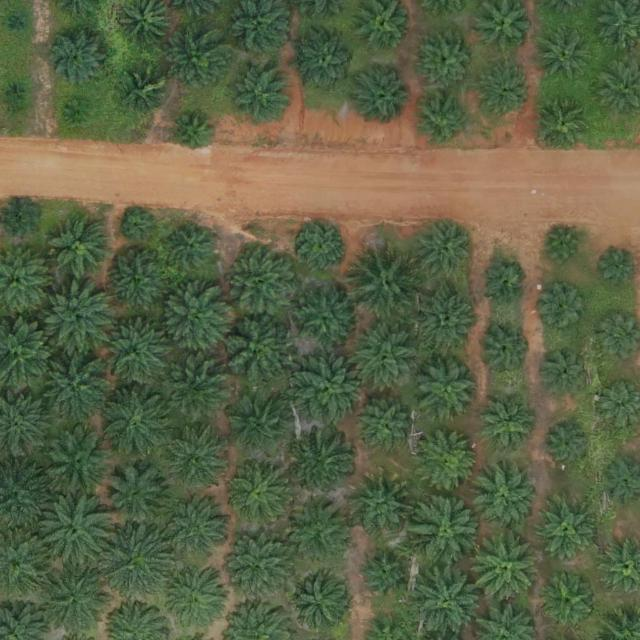Kelapa_Sawit: (32, 344, 110, 422), (38, 489, 116, 567), (95, 315, 173, 393), (98, 383, 176, 461), (95, 524, 173, 602), (223, 241, 301, 319), (215, 311, 293, 389), (218, 527, 296, 605), (290, 351, 368, 429), (347, 242, 425, 320), (345, 319, 423, 397), (408, 491, 486, 569), (466, 529, 544, 607), (36, 560, 114, 638), (41, 22, 111, 92), (41, 282, 111, 352), (42, 427, 112, 497), (101, 462, 171, 532), (159, 284, 229, 354), (160, 354, 230, 424), (163, 495, 233, 565), (155, 563, 225, 633), (407, 569, 477, 632), (167, 28, 229, 91), (229, 63, 291, 126), (48, 216, 110, 279), (104, 249, 166, 312), (228, 396, 290, 459), (229, 459, 291, 522), (295, 431, 357, 494), (288, 496, 350, 559), (352, 473, 414, 536), (285, 569, 347, 632), (295, 30, 357, 92), (352, 62, 414, 124), (416, 29, 478, 91), (294, 286, 356, 348), (413, 219, 475, 281), (415, 291, 477, 353), (415, 358, 477, 420), (417, 431, 479, 493), (474, 466, 536, 528), (532, 498, 594, 560), (0, 315, 48, 385), (229, 0, 290, 52), (0, 244, 46, 312), (0, 453, 42, 526), (478, 64, 533, 119), (538, 26, 593, 81), (536, 95, 591, 150), (168, 431, 223, 486), (479, 398, 534, 453), (541, 576, 596, 631), (0, 526, 44, 594), (476, 322, 530, 377), (416, 93, 470, 148), (358, 400, 412, 455), (222, 599, 291, 640), (0, 387, 44, 451), (476, 0, 530, 52), (595, 57, 640, 117), (353, 0, 408, 48), (105, 601, 168, 640), (597, 537, 640, 594), (591, 1, 639, 52), (472, 605, 534, 640), (541, 347, 587, 394), (544, 421, 590, 468), (299, 222, 345, 269), (479, 260, 525, 307), (0, 189, 44, 238), (117, 0, 166, 44), (540, 286, 586, 332), (123, 68, 169, 114), (168, 224, 214, 270), (359, 552, 405, 598), (594, 380, 639, 424), (597, 311, 640, 357), (597, 456, 640, 502), (0, 597, 44, 639), (174, 110, 213, 149), (543, 227, 581, 266), (599, 248, 637, 287), (121, 211, 152, 242), (62, 96, 89, 123), (4, 80, 22, 100), (8, 12, 25, 32)
